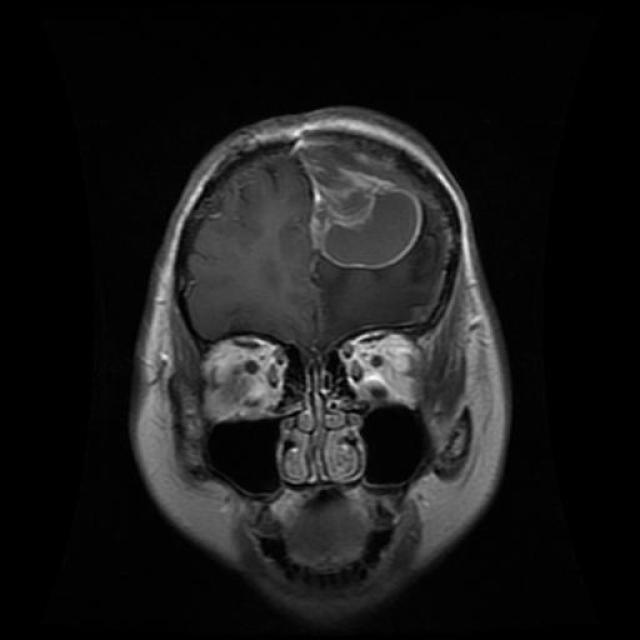glioma: (291, 134, 430, 275)
